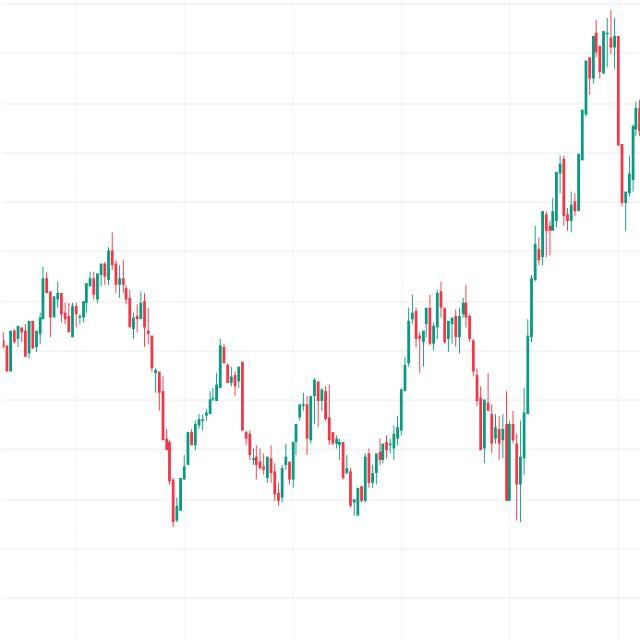Triple-Bottom: (138, 355, 418, 540)
Triple-Top: (390, 264, 492, 371)
